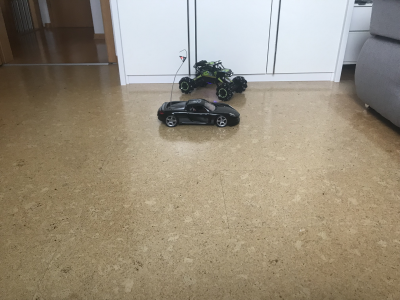remote control car: (176, 52, 251, 100)
